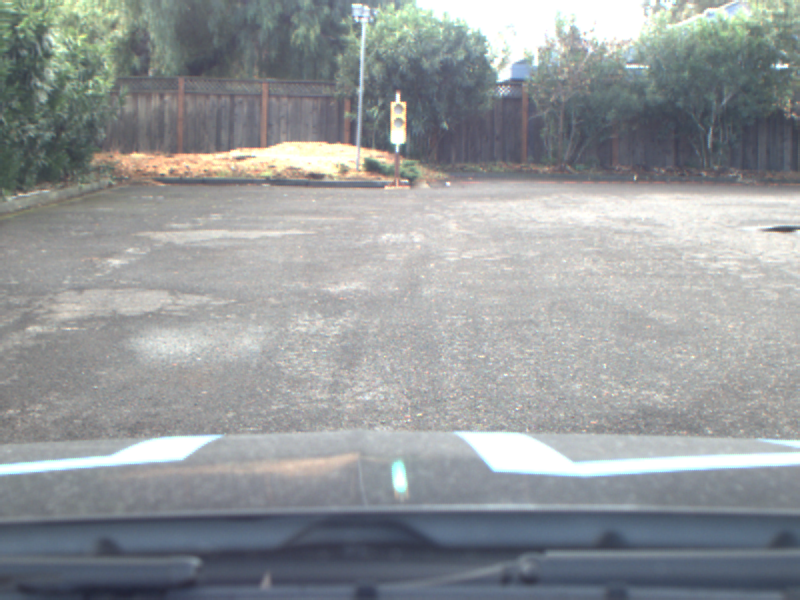Green: (388, 99, 408, 144)
